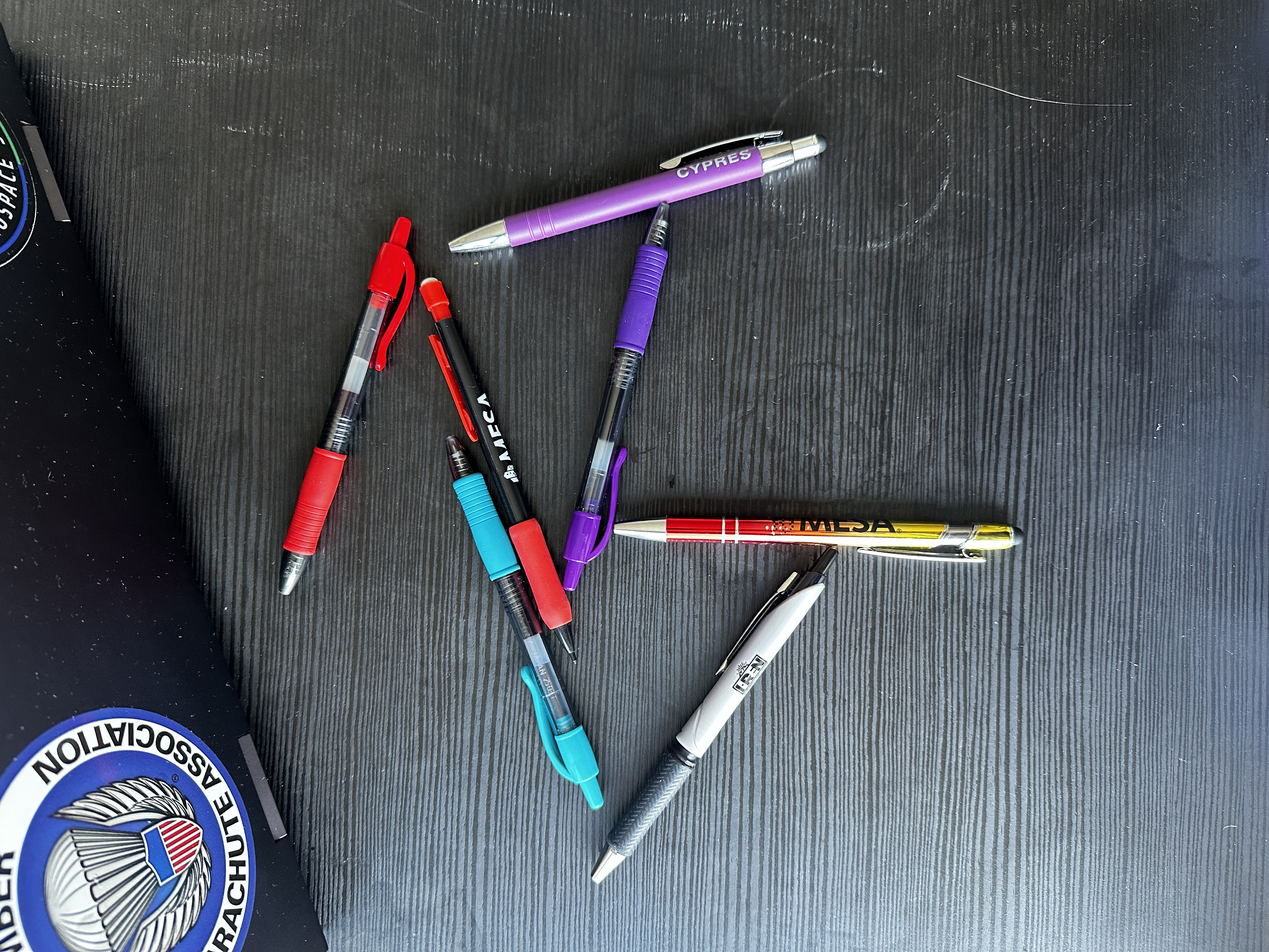Blue Pen: (443, 429, 612, 804)
Cypres Pen Purple: (443, 118, 819, 260)
MESA Multicolored pen: (614, 509, 1024, 570)
Purple Pen: (549, 198, 678, 597)
Red Mechanical Pencil: (420, 270, 579, 661)
Red Pen: (274, 215, 418, 602)
Silver Pen: (591, 559, 834, 884)
